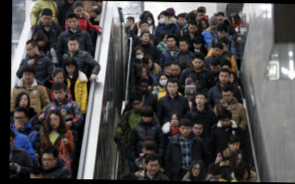with_mask: (158, 76, 169, 86), (135, 51, 144, 59), (159, 15, 167, 23), (146, 17, 153, 26)
without_mask: (146, 161, 160, 175), (41, 156, 55, 169), (52, 89, 66, 102), (12, 114, 25, 127), (48, 116, 60, 129), (22, 72, 34, 84), (18, 96, 29, 108), (67, 18, 78, 30), (131, 100, 143, 111), (167, 83, 178, 95), (179, 125, 190, 137), (25, 46, 36, 57), (68, 41, 79, 52), (192, 125, 203, 136), (194, 95, 205, 106), (229, 141, 240, 152), (169, 67, 180, 77), (191, 165, 201, 176), (222, 93, 233, 103), (238, 171, 249, 181), (170, 116, 179, 128), (219, 118, 231, 127), (65, 64, 75, 74), (139, 84, 149, 94), (166, 38, 176, 48), (178, 42, 188, 52), (192, 60, 202, 70), (219, 73, 229, 83), (53, 74, 64, 83), (73, 8, 84, 17), (141, 115, 152, 124), (143, 147, 154, 156), (210, 65, 221, 74), (42, 16, 51, 26), (139, 23, 149, 32), (212, 48, 223, 56), (141, 33, 150, 42), (177, 17, 186, 26), (163, 66, 171, 76), (36, 39, 45, 47), (139, 69, 147, 78), (186, 92, 195, 100), (187, 26, 196, 34), (217, 30, 226, 38), (146, 60, 153, 69), (193, 42, 201, 49), (197, 12, 205, 19), (124, 19, 130, 28), (141, 160, 147, 169), (228, 75, 234, 84), (217, 17, 224, 24), (235, 156, 242, 163), (162, 35, 168, 43), (201, 21, 207, 29), (209, 23, 217, 29), (222, 44, 227, 53), (231, 18, 237, 24)
